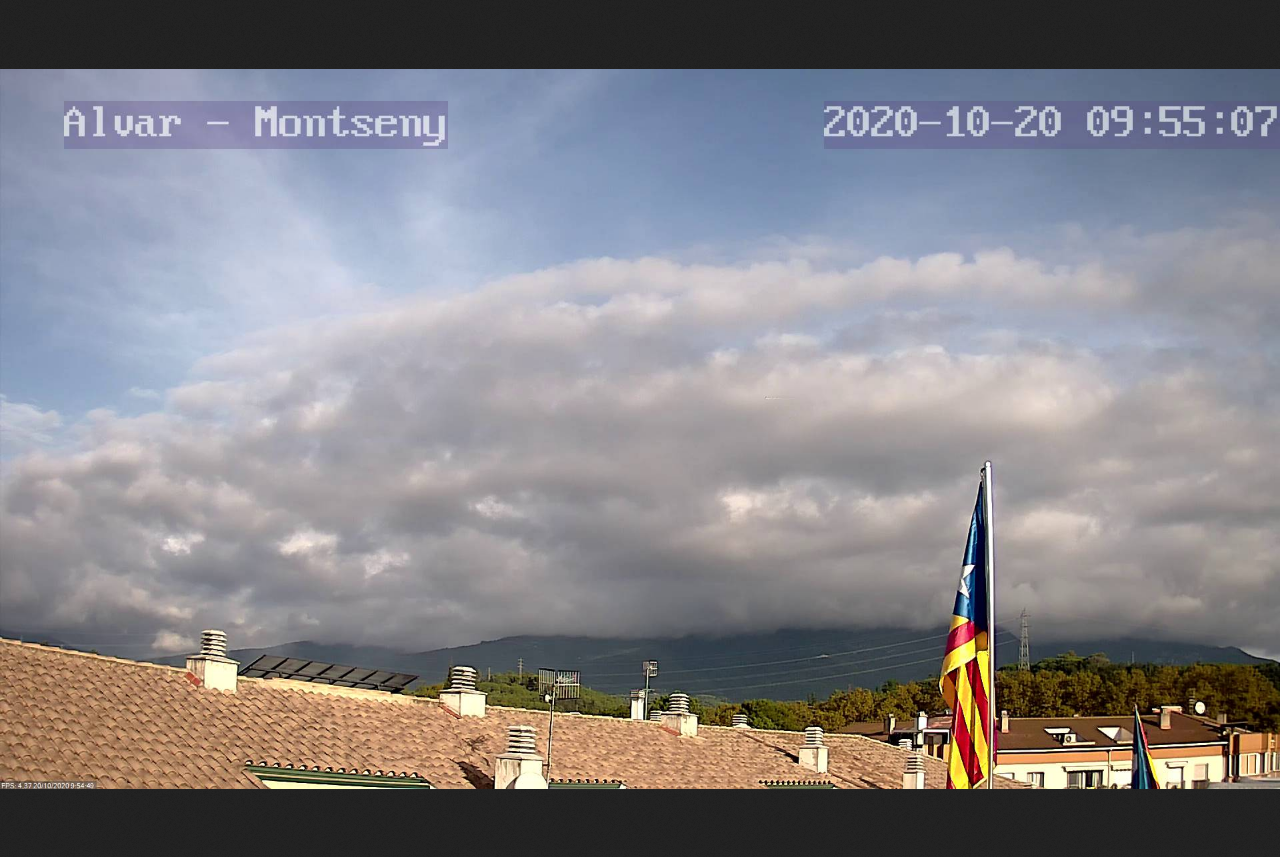no: (929, 445, 1007, 792)
